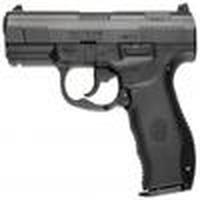gun: (2, 4, 199, 195)
